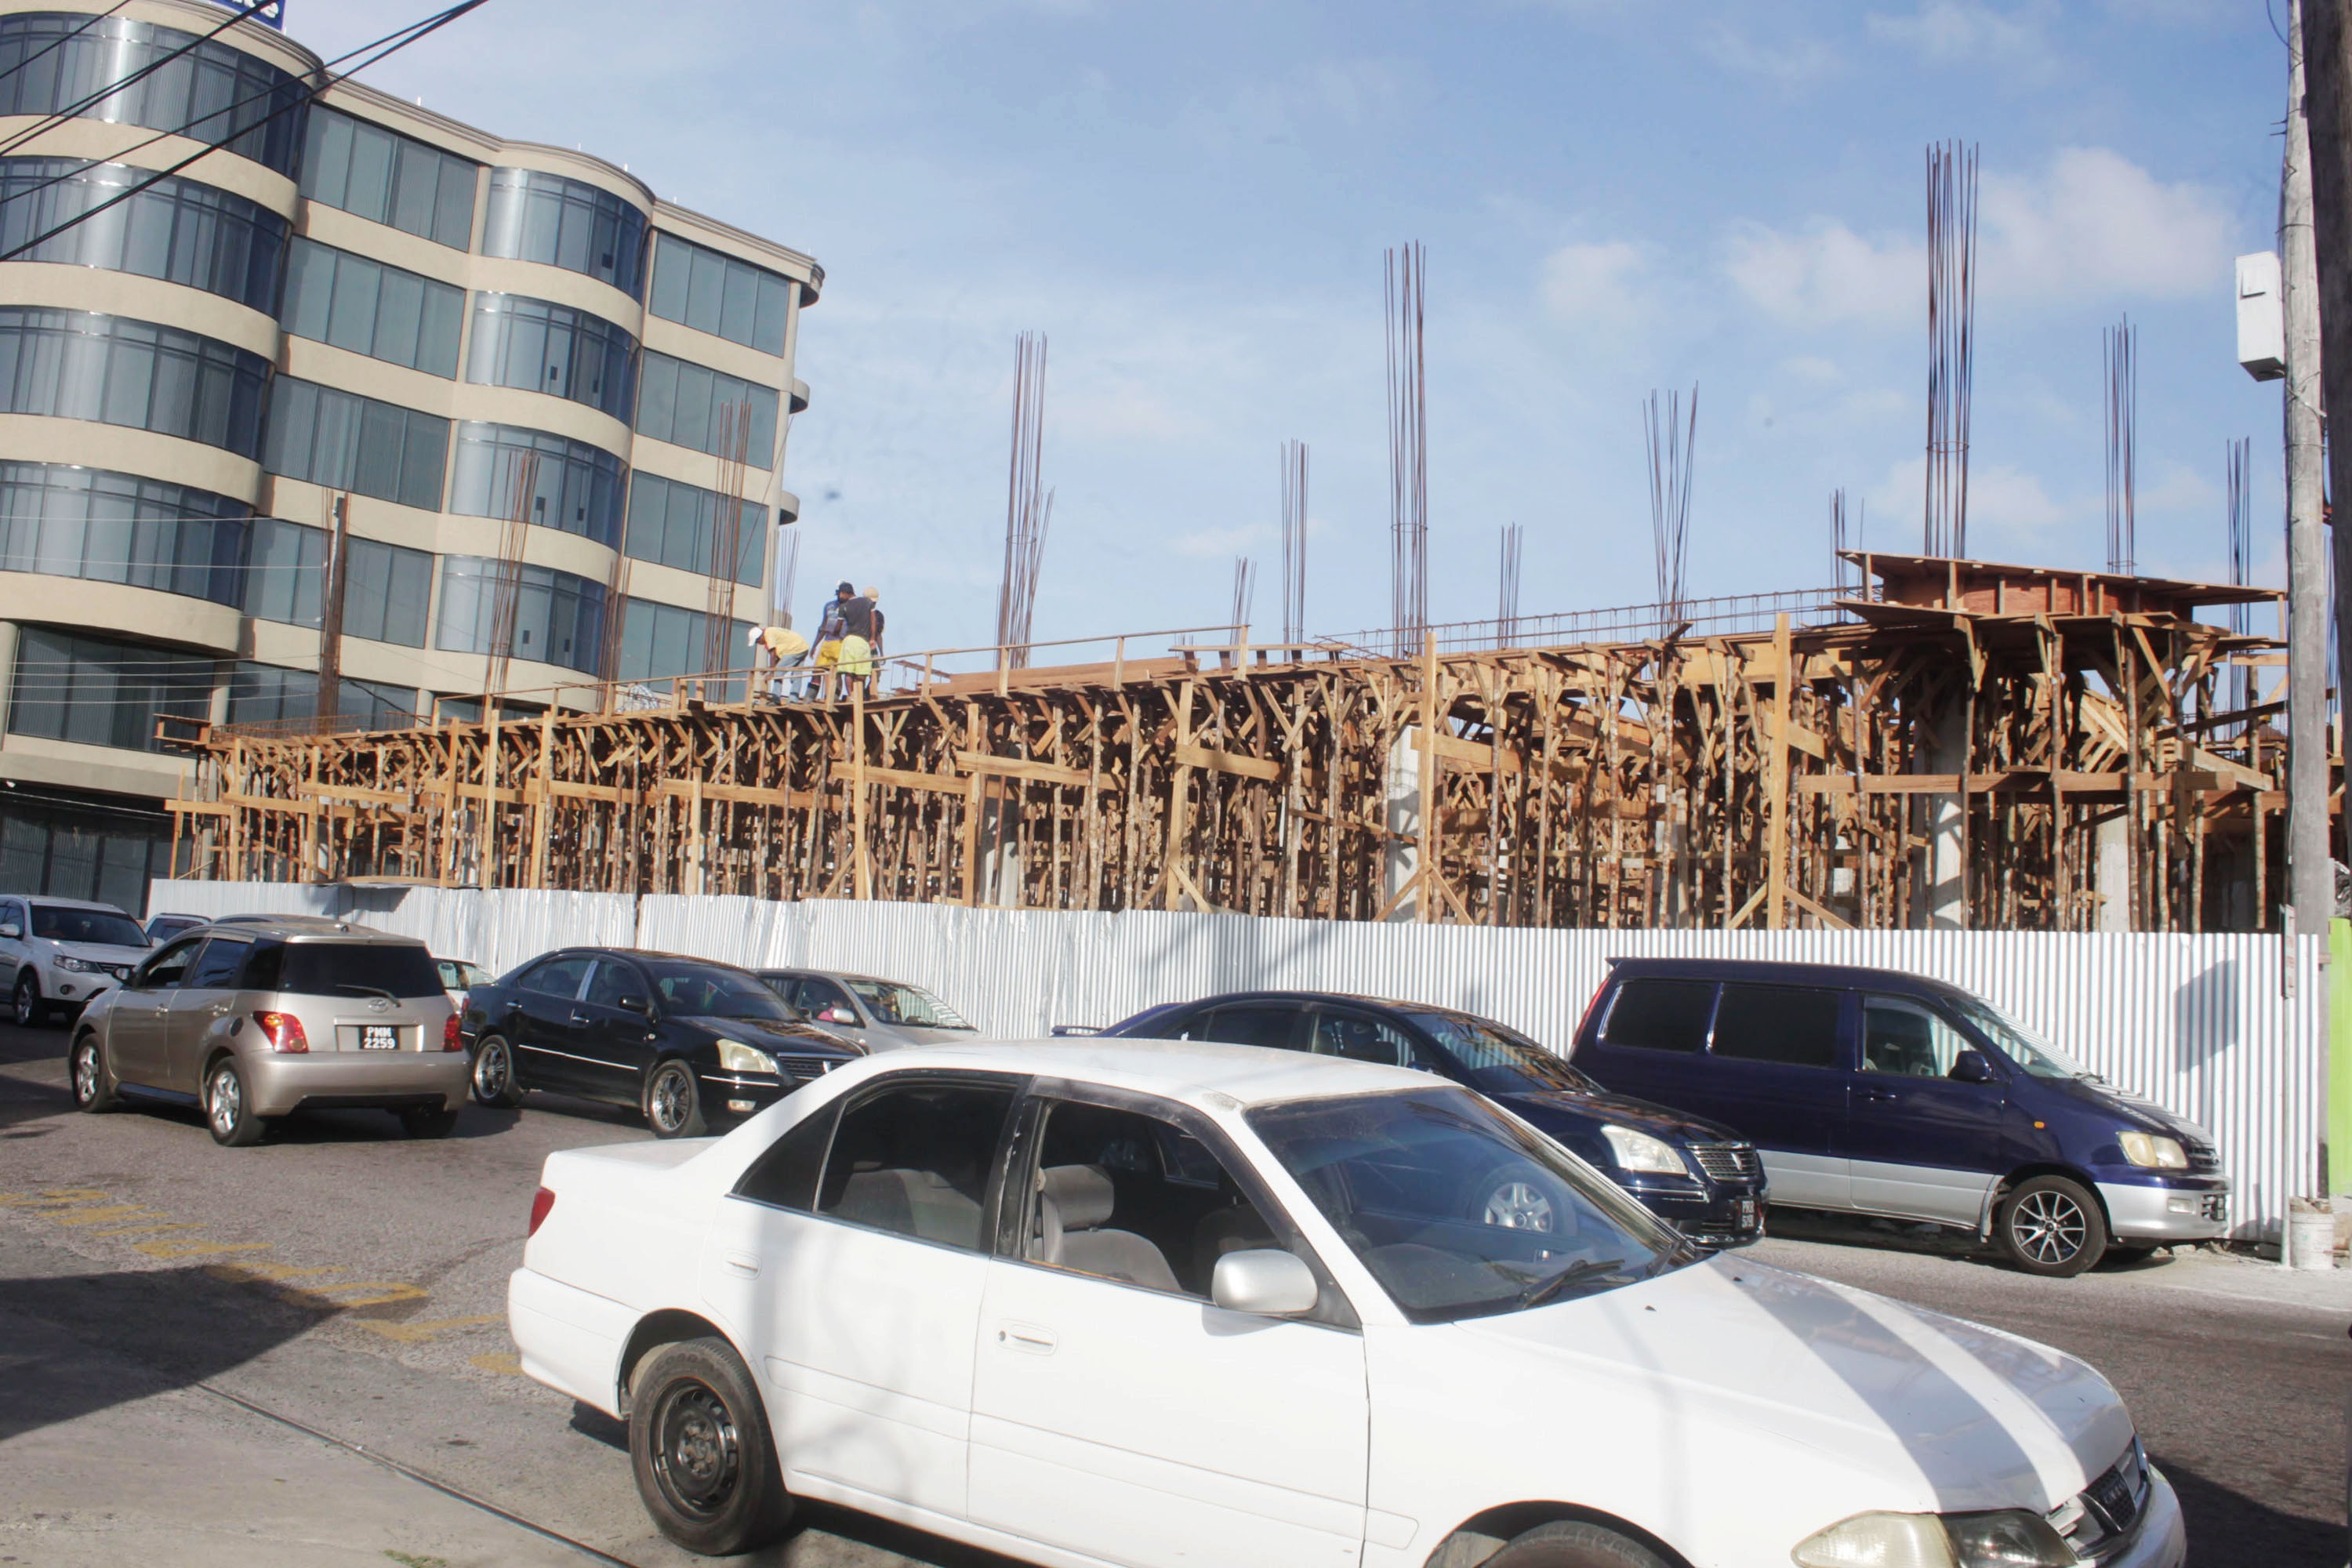none: (837, 581, 854, 602)
white: (749, 625, 765, 647)
yellow: (861, 586, 880, 609)
